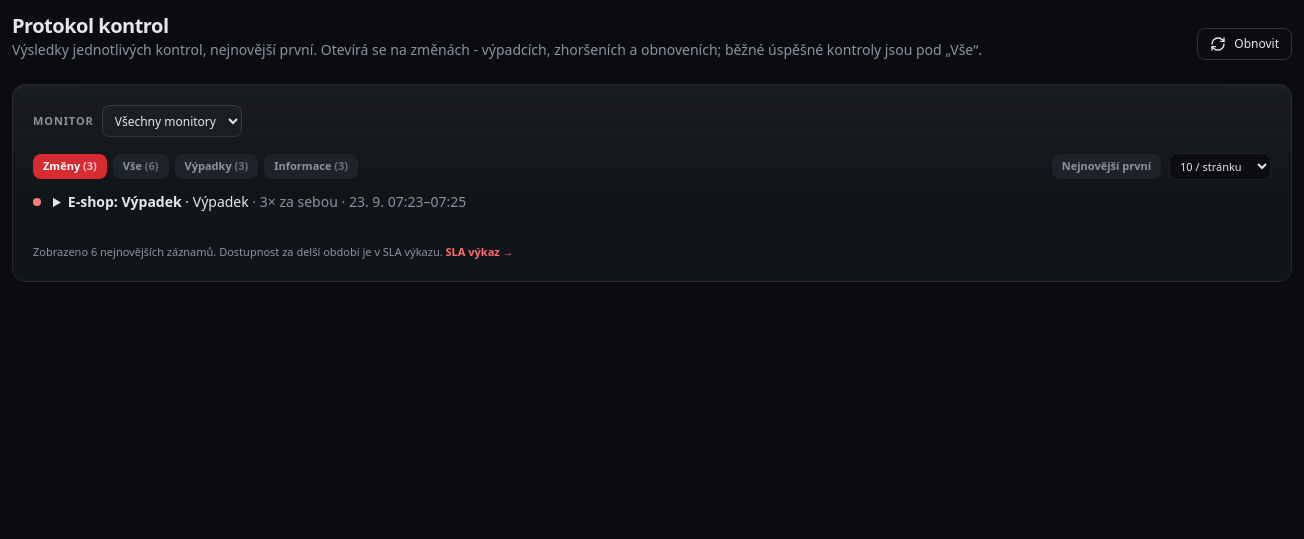
Test: Protokol kontrol (W2-6) › otevírá se na změnách: tři výpadky E-shopu jsou jeden řádek, úspěšné kontroly čekají pod „Vše“
Expected: the text "E-shop: Výpadek" is shown, x1=68 y1=192 x2=182 y2=211
Expected: the text "Wiki: Kontrola v pořádku" is not shown
Click the button "Vše (6)".
click(141, 167)  # box x1=113 y1=154 x2=169 y2=179
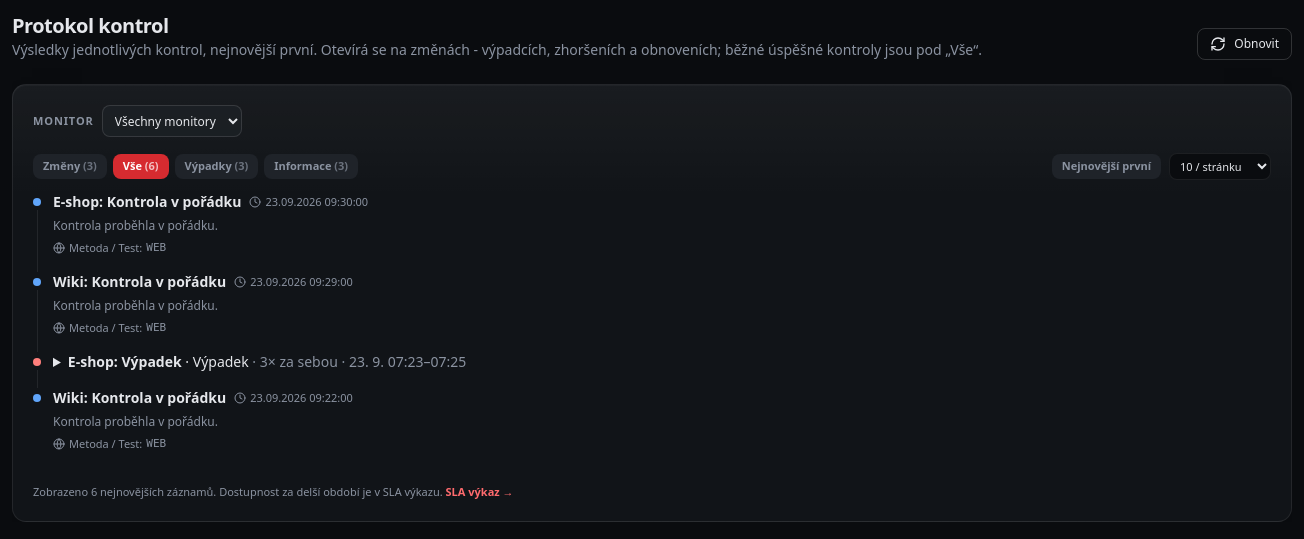
Expected: the text "Wiki: Kontrola v pořádku" next to "23.09.2026 09:29:00" is shown, x1=53 y1=272 x2=226 y2=291
